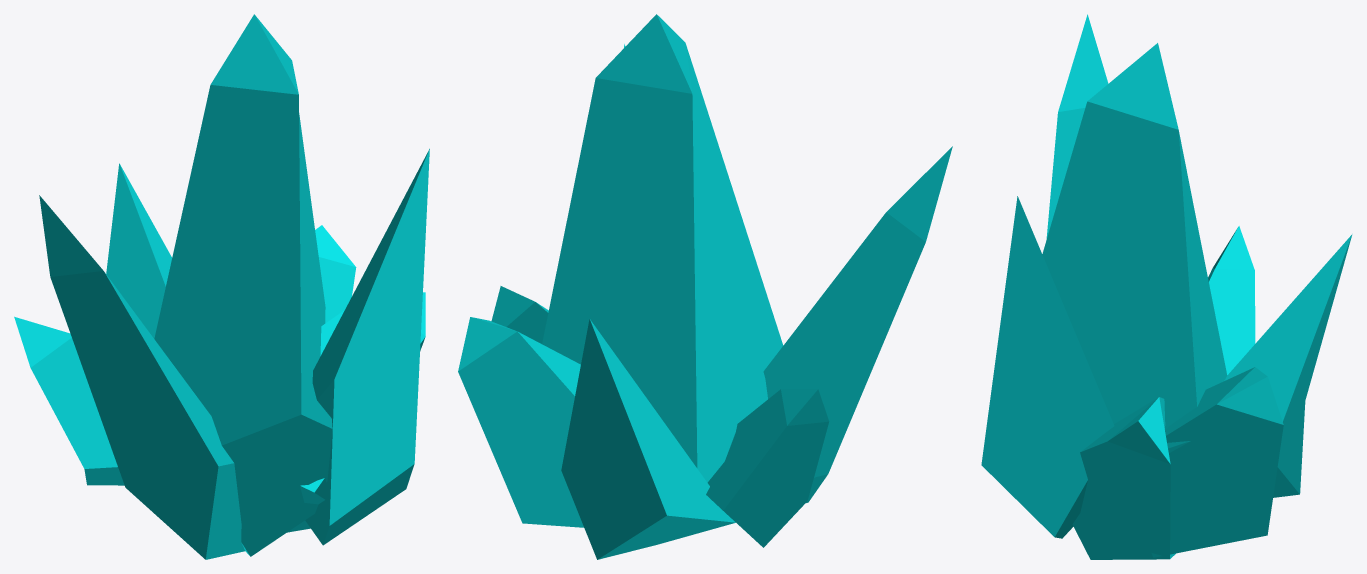
Rendered from TheSweetCrystals.fbx.
3 views of the same model, side by side, from view 1: azimuth 30°, elevation 25°; view 2: azimuth 150°, elevation 25°; view 3: azimuth 270°, elevation 25° (orthographic). The views are drawn at different scales.
Parts seen in each view (by area): view 1: pCube8; view 2: pCube8; view 3: pCube8.
Part boxes in pixels (left/top/right/bottom): pCube8: left=14, top=14, right=429, bottom=559; pCube8: left=458, top=14, right=952, bottom=559; pCube8: left=981, top=14, right=1352, bottom=559.
Size of the model in its own units: 4.67 by 3.74 by 5.52.
